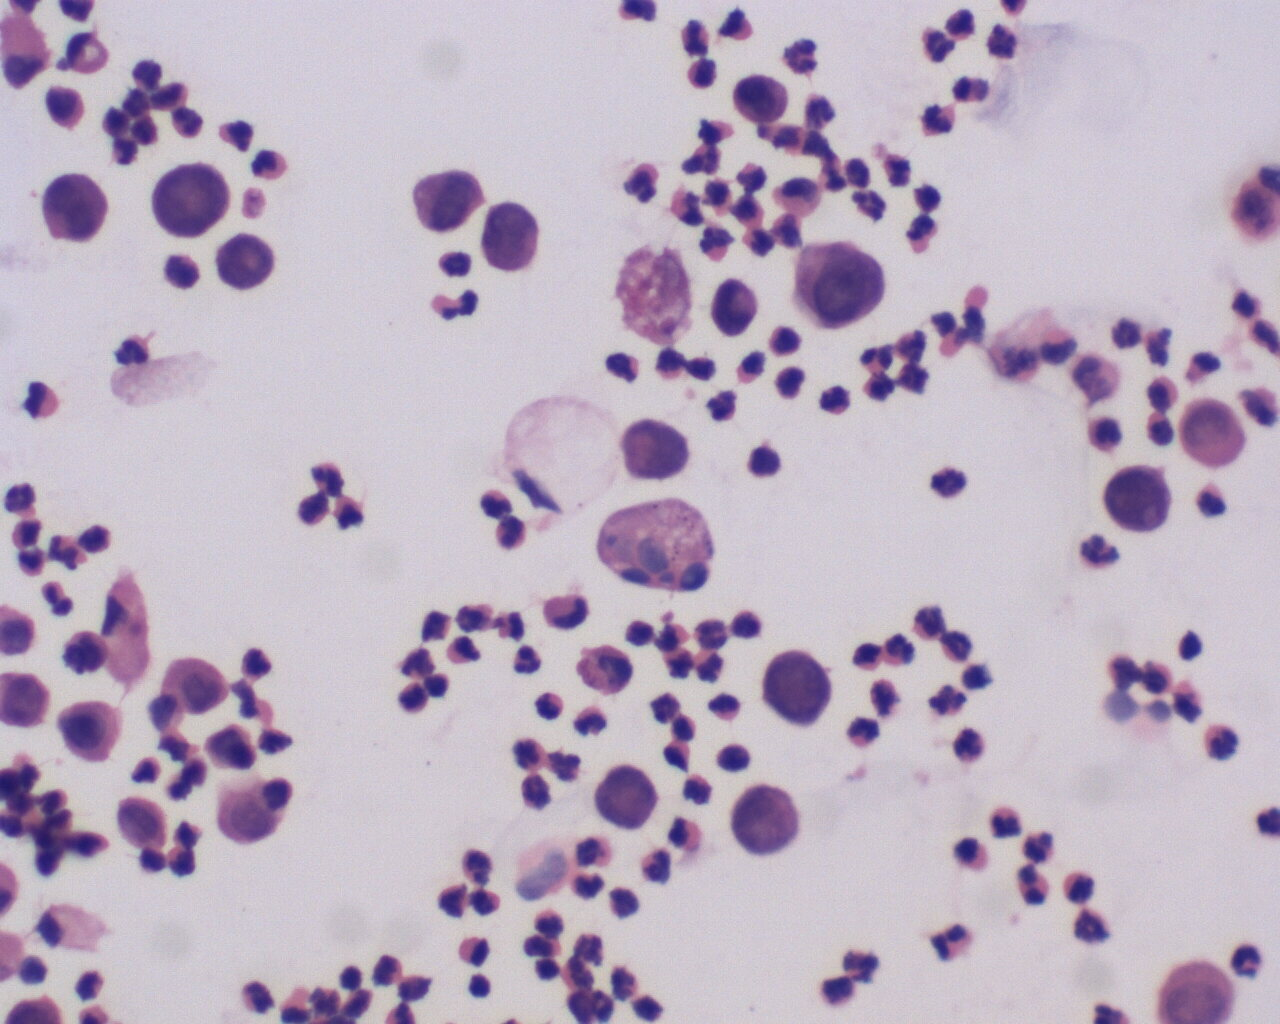ab: (787, 242, 889, 330), (719, 779, 804, 863), (761, 645, 835, 734), (153, 162, 237, 239), (615, 415, 699, 488), (1100, 458, 1176, 536), (408, 163, 488, 234), (480, 197, 549, 278), (1182, 391, 1251, 471), (37, 174, 109, 248), (595, 759, 657, 836), (211, 786, 279, 847), (725, 69, 795, 126), (215, 229, 275, 295), (109, 792, 173, 851)
histo: (503, 389, 625, 518)
meso: (53, 696, 127, 762)
neutro: (924, 675, 975, 723), (691, 218, 739, 266), (931, 920, 979, 967), (1014, 859, 1057, 910), (620, 160, 669, 205), (1225, 942, 1275, 985), (1198, 712, 1242, 760), (505, 732, 548, 775), (841, 709, 887, 749), (986, 800, 1029, 842), (878, 629, 920, 670), (926, 462, 970, 501), (217, 118, 257, 160), (921, 23, 957, 68), (509, 639, 546, 682), (847, 185, 889, 223), (113, 331, 152, 371), (1069, 910, 1109, 948), (574, 703, 608, 740)
